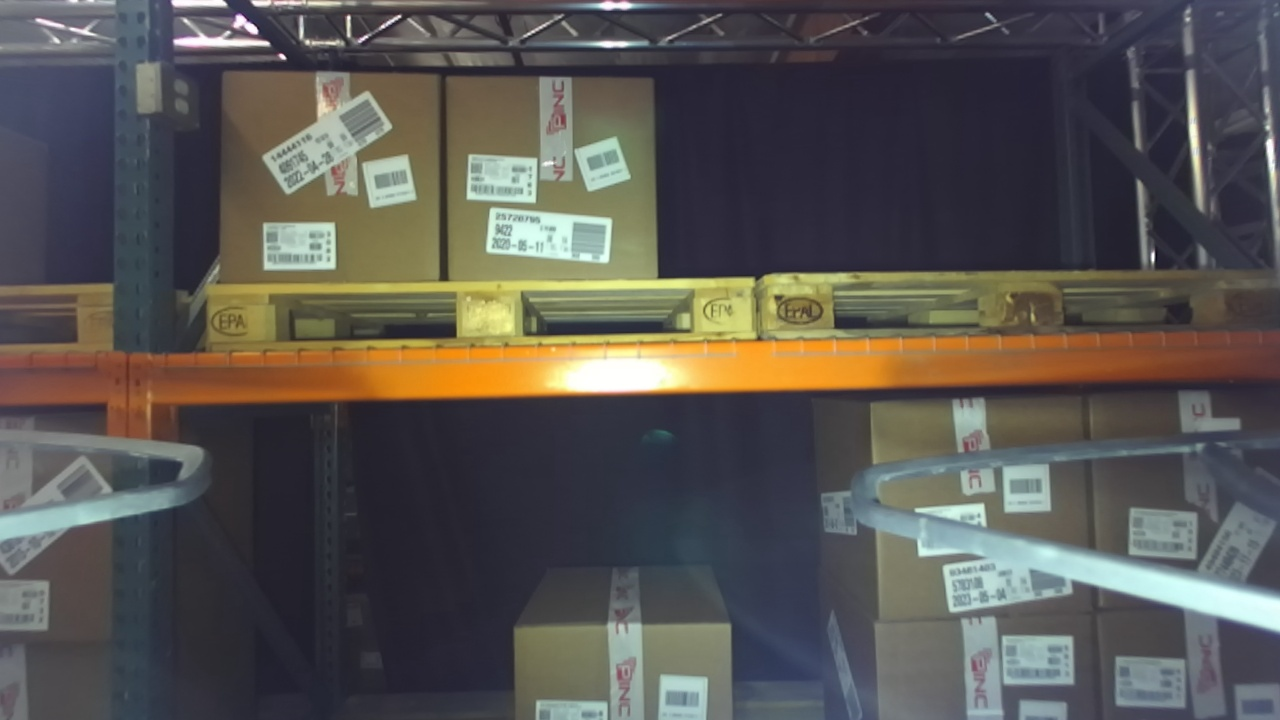box: (206, 50, 479, 302), (833, 389, 1119, 629), (430, 54, 677, 317), (1076, 361, 1280, 635)
